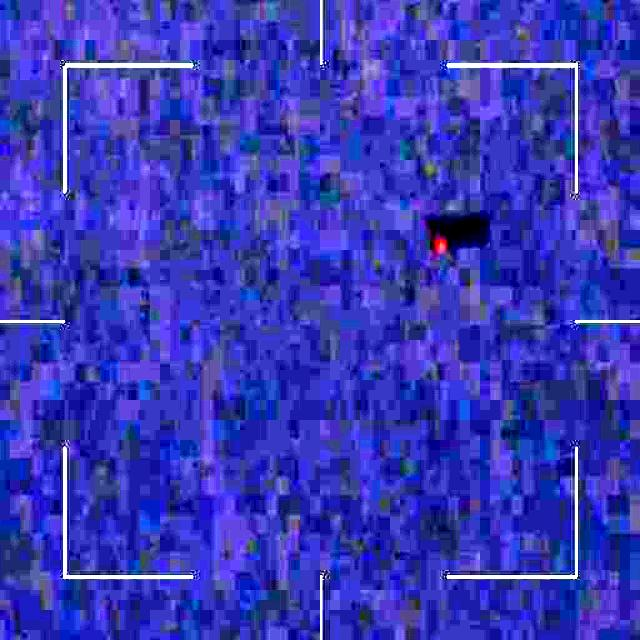bird: (424, 225, 455, 264)
